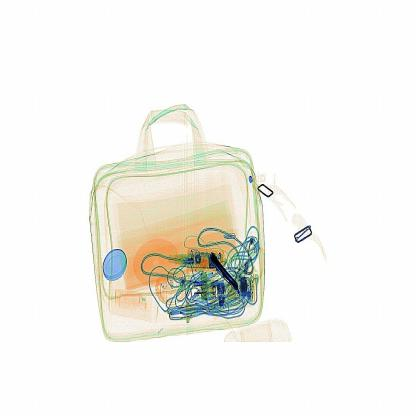knife: (202, 252, 245, 304)
